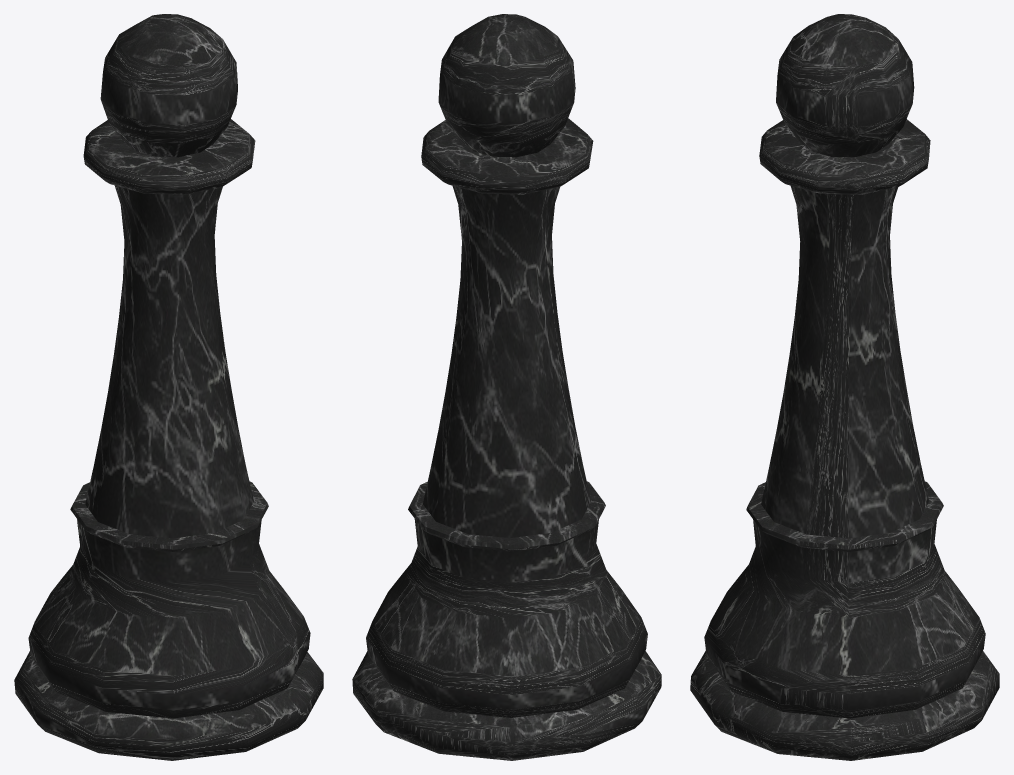
The model's file is pawnblack0.glb.
3 views of the same model, side by side, from view 1: azimuth 30°, elevation 25°; view 2: azimuth 150°, elevation 25°; view 3: azimuth 270°, elevation 25° (orthographic).
Bounding box in the file's own units: 0.7766 × 1.89 × 0.7757.
1 material, 1 textured.
